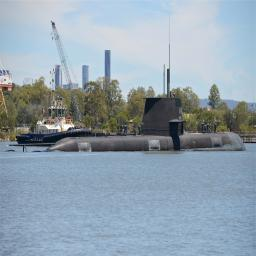submarine: (46, 97, 249, 152)
